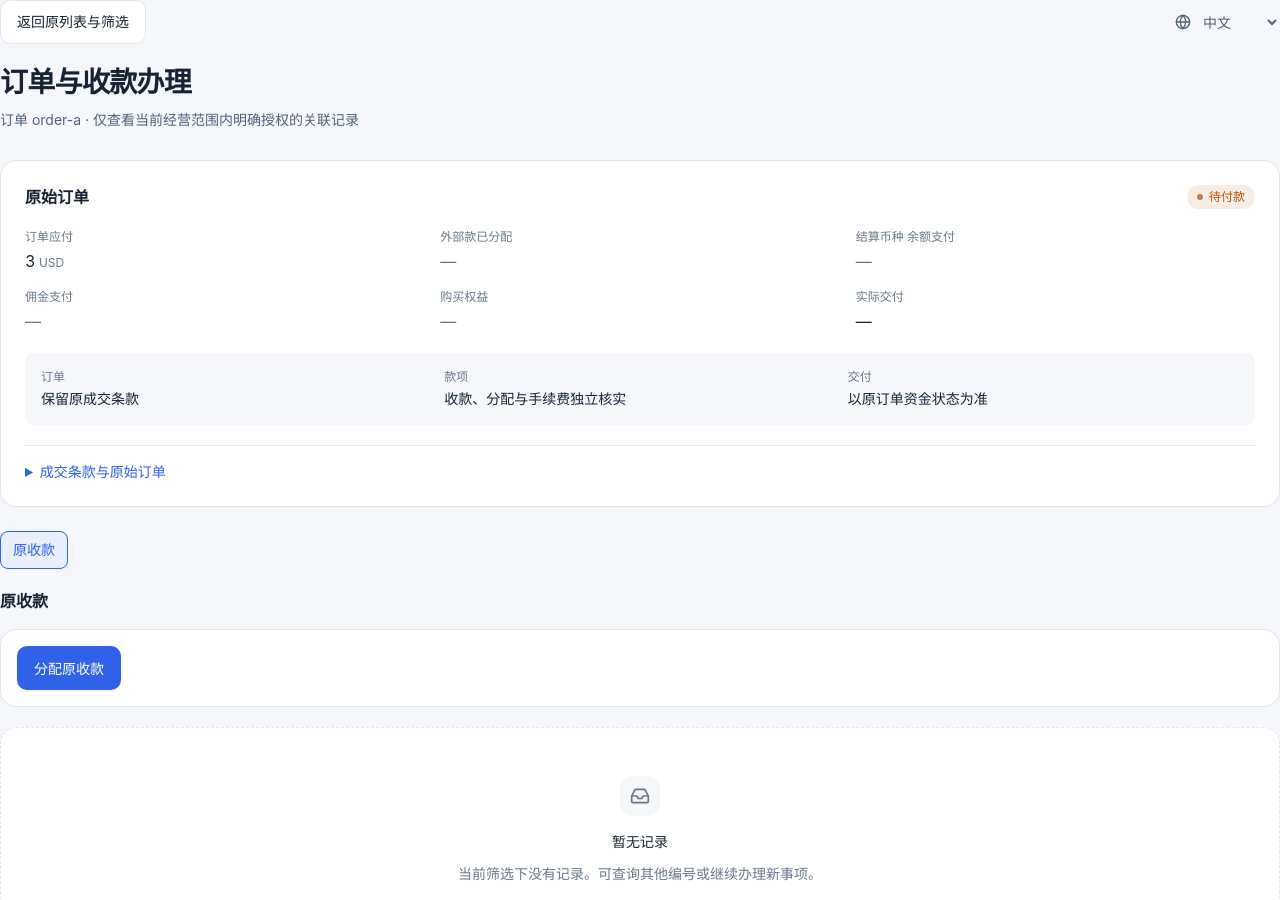
Test: keeps the full order page and its original uncertain operation mounted for a precise retry
Click the button "分配原收款" at (69, 668), box [17,646,121,690]
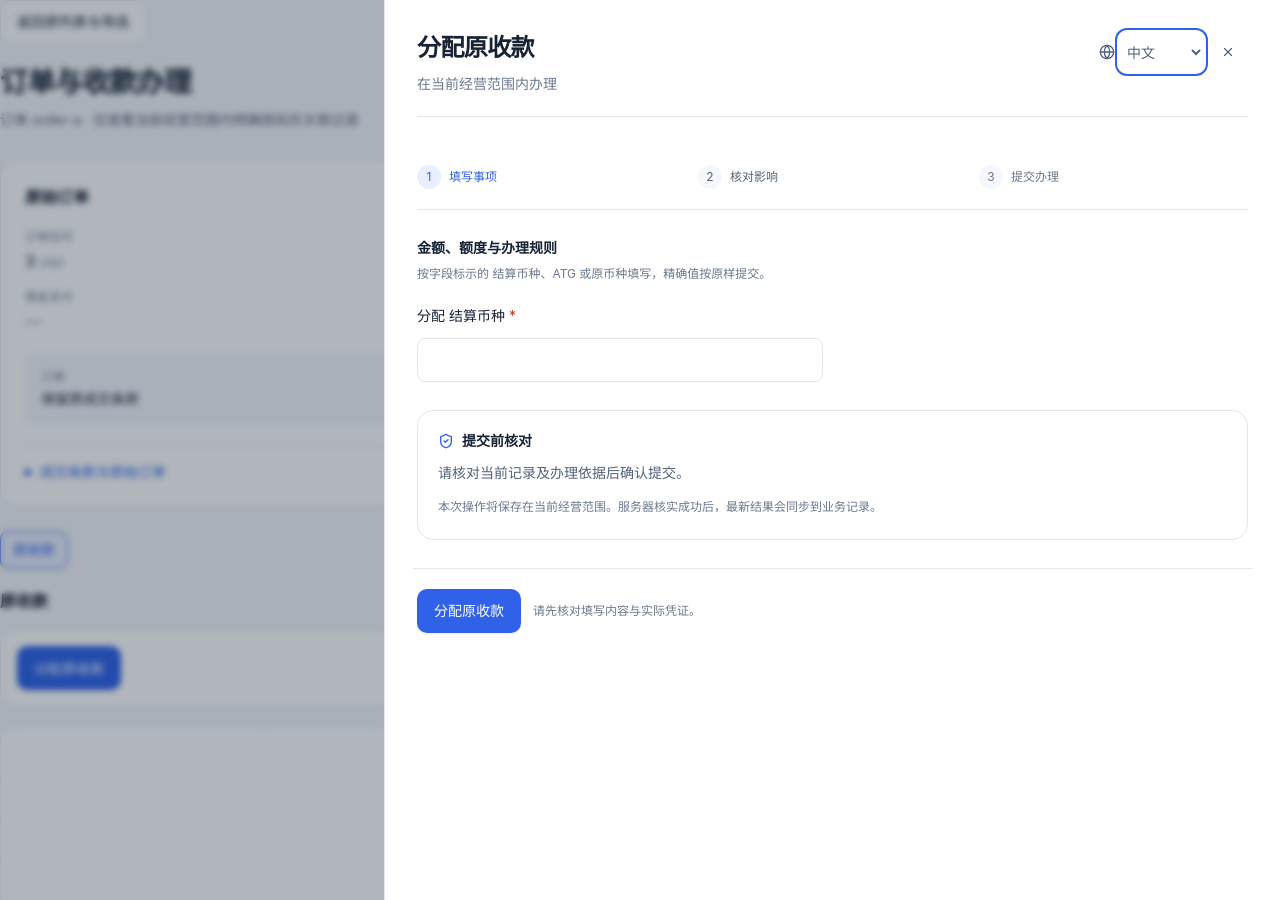
Type "3.000000000000000001" into the field labelled "分配 结算币种" at (620, 360), box [417,338,822,382]
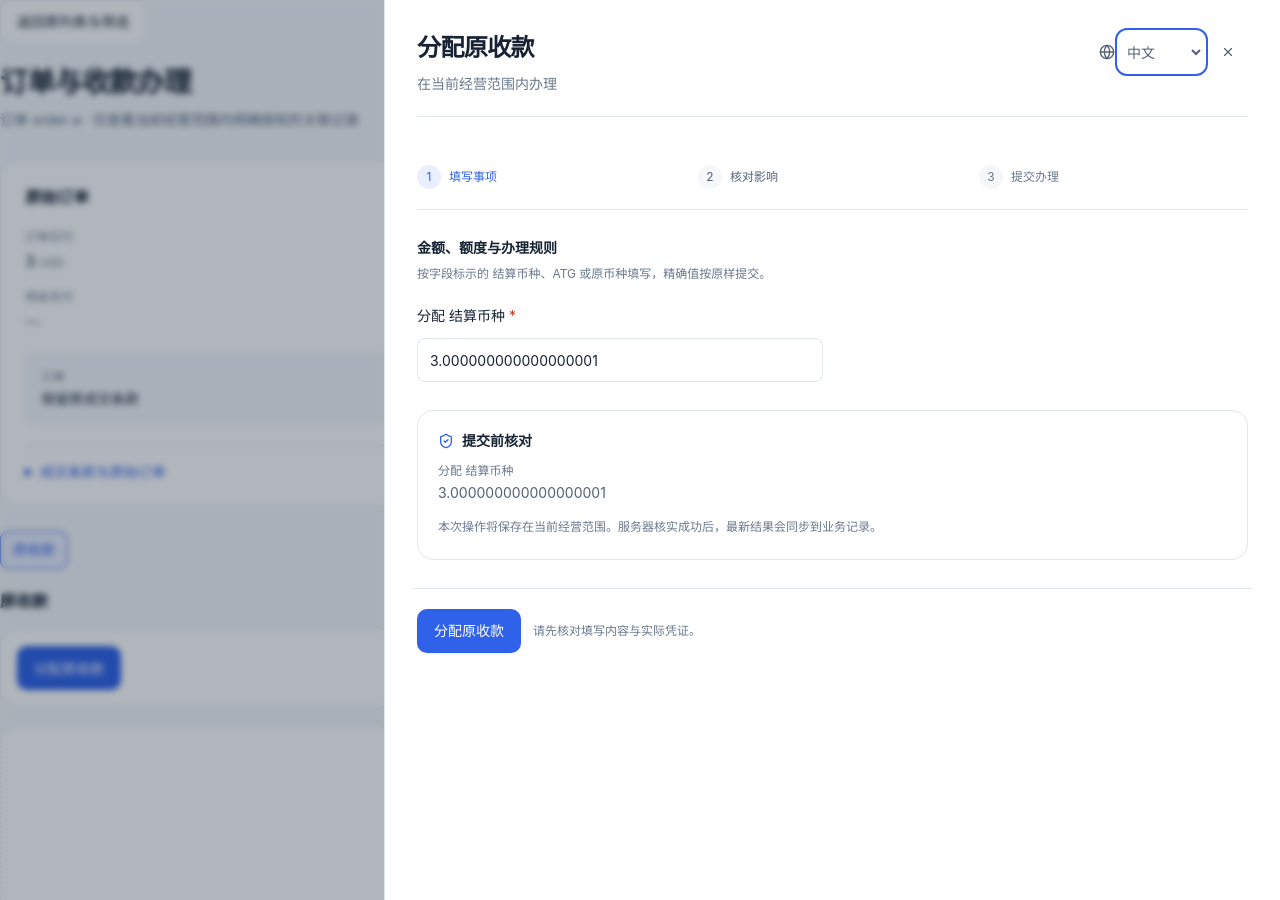
Click the button "分配原收款" at (469, 631), box [417,609,521,653]
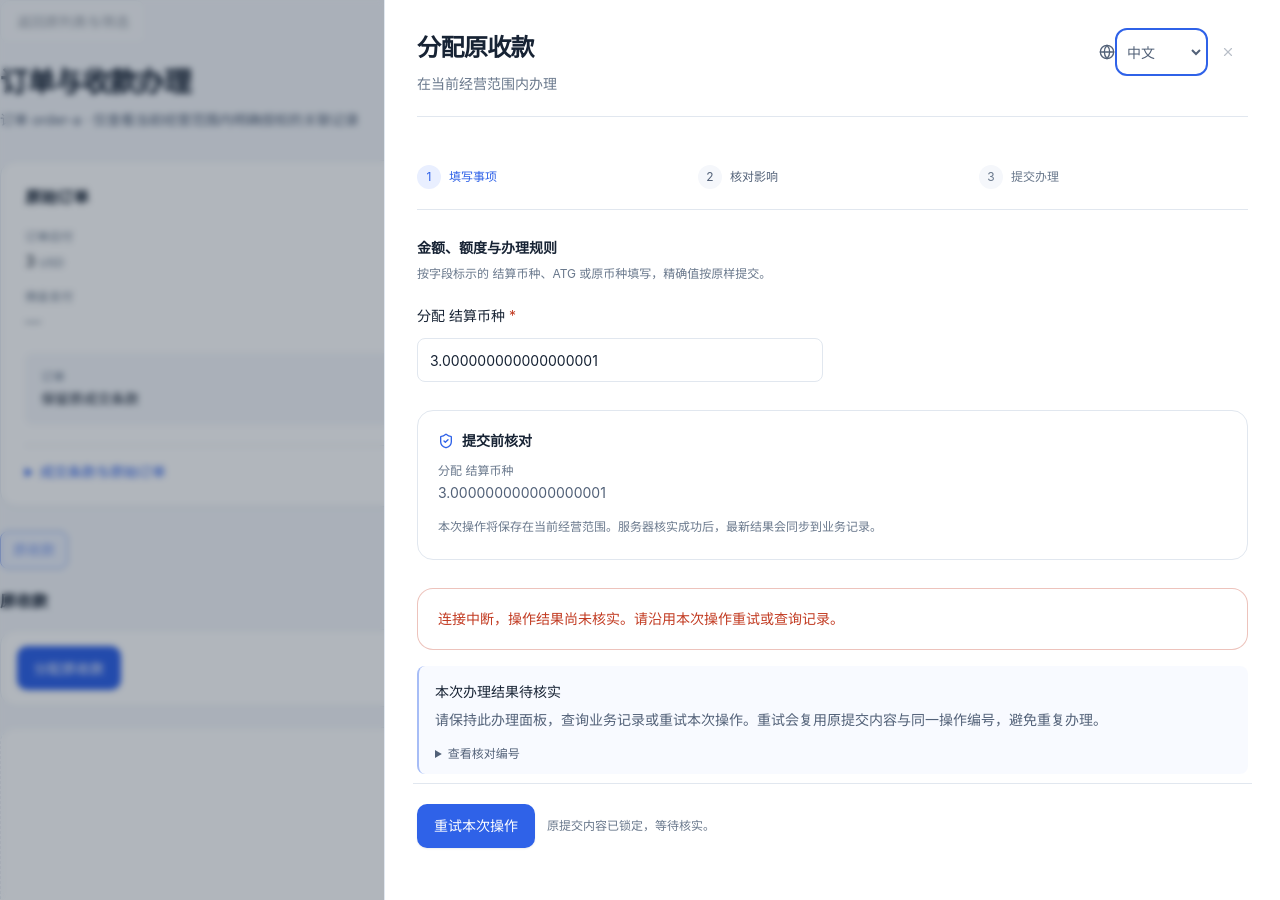
Result: the number of dialogs is 1
Result: the button "重试本次操作" is shown
Result: the button "返回原列表与筛选" is disabled at [0,0,146,44]
Click the button "重试本次操作" at (476, 826), box [417,804,535,848]
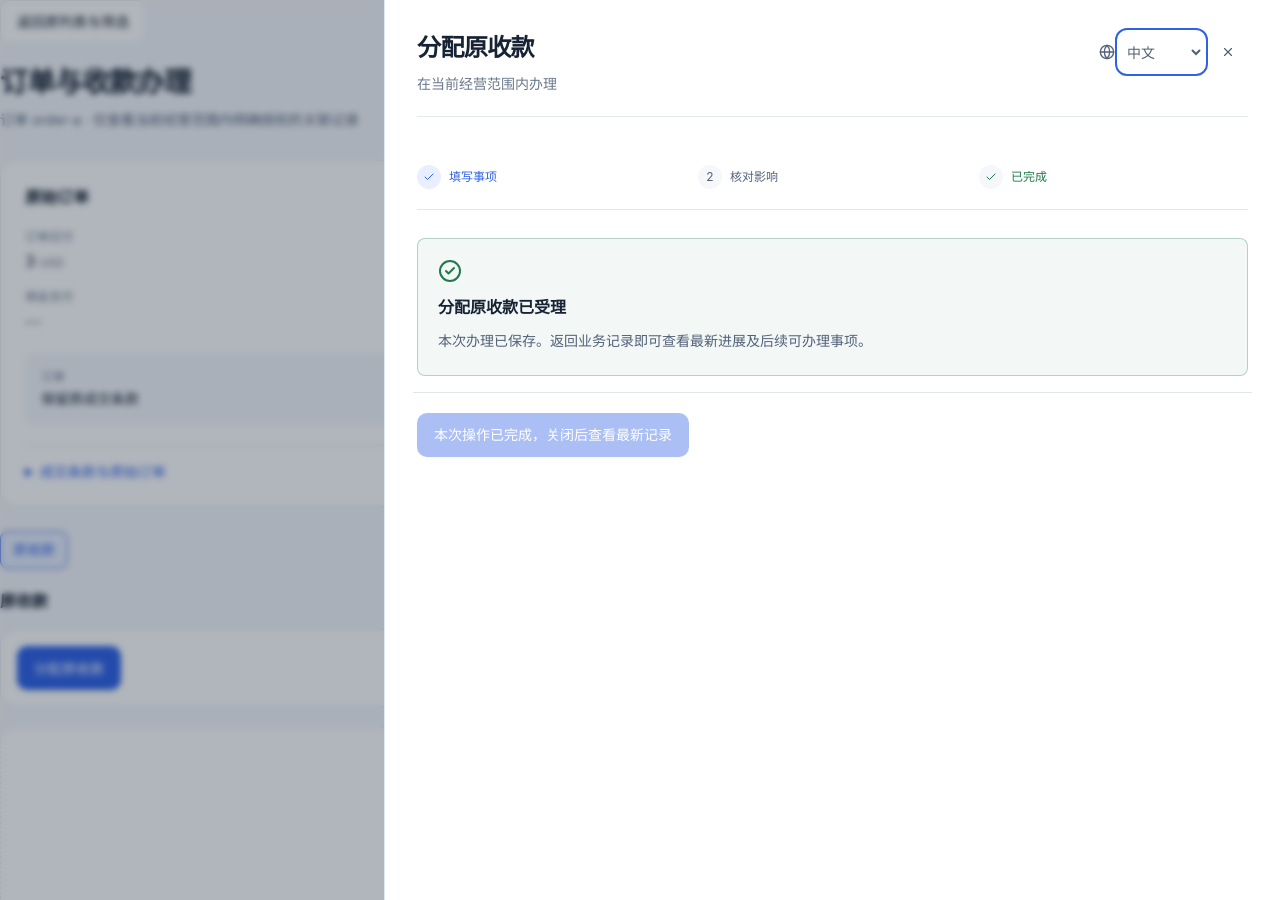
Result: the button "本次操作已完成，关闭后查看最新记录" is shown at [417,413,689,457]
